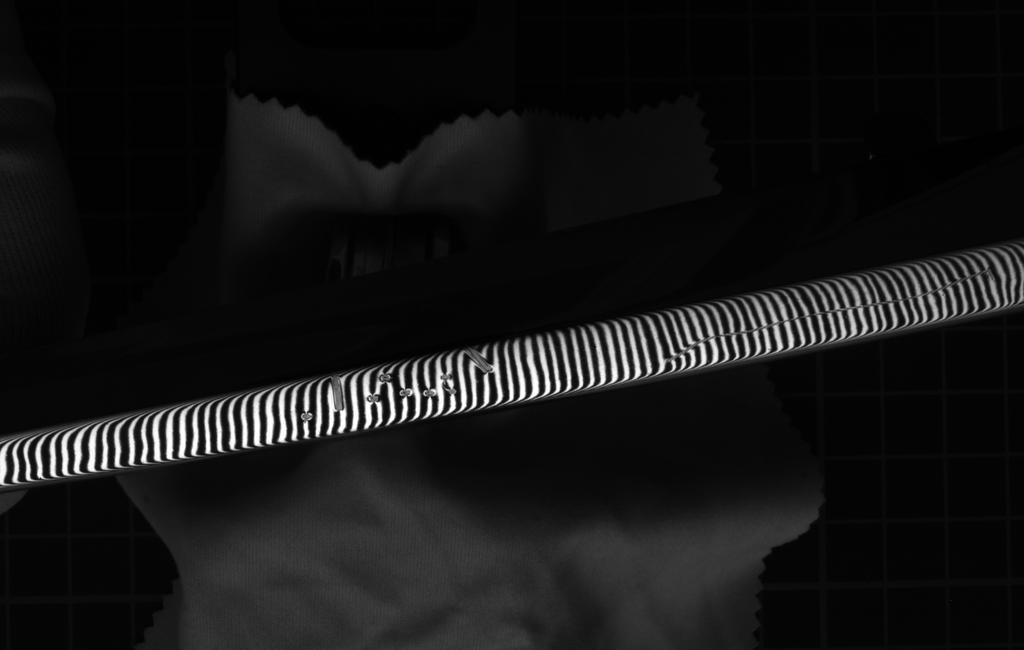Pierced: (294, 406, 323, 431), (416, 382, 443, 405), (370, 367, 401, 387), (362, 390, 393, 409), (395, 383, 420, 403)
Scratch: (642, 256, 1014, 373), (457, 342, 504, 385), (321, 366, 353, 419), (431, 365, 469, 402)
